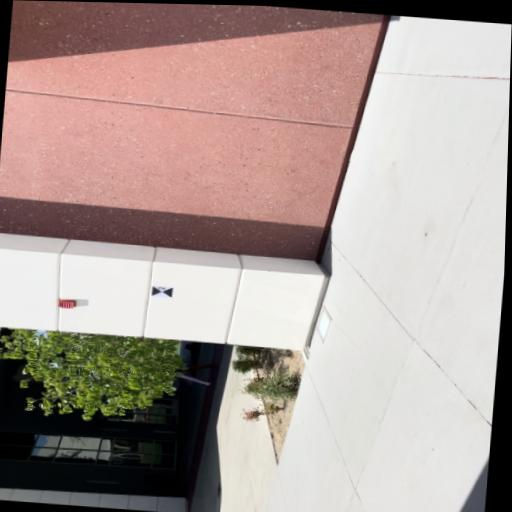target2: (151, 286, 173, 298)
